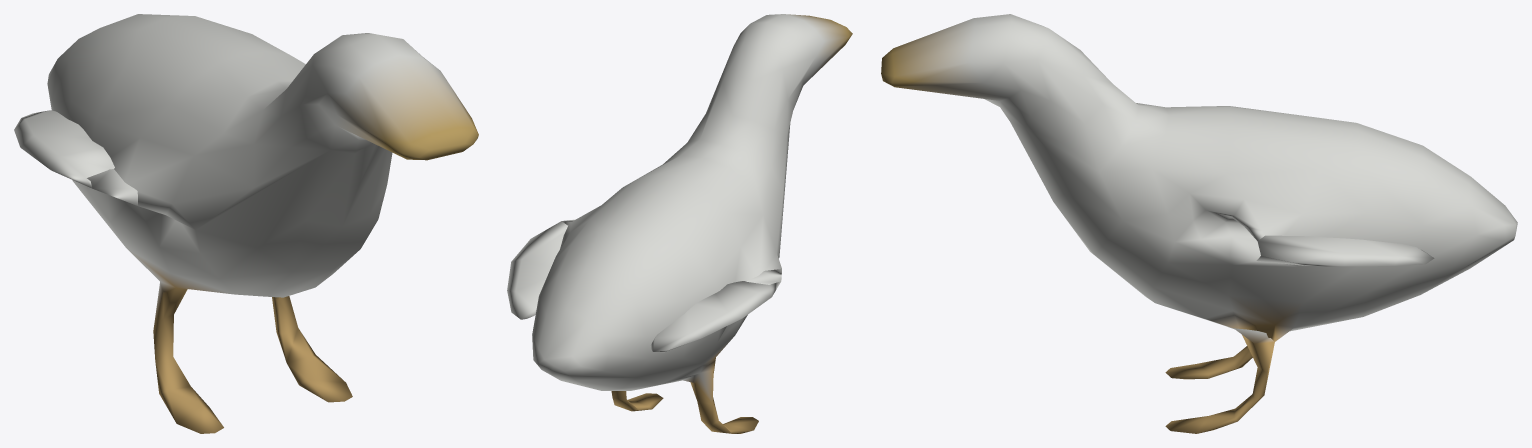
The model's file is duck-0.glb.
The picture shows the model from 3 angles, left to right: view 1: azimuth 30°, elevation 25°; view 2: azimuth 150°, elevation 25°; view 3: azimuth 270°, elevation 25°; orthographic projection. The views are drawn at different scales.
Parts seen in each view (by area): view 1: duck; view 2: duck; view 3: duck.
Part boxes in pixels (box(x1,y1,x2,y2)): duck: box(14, 14, 478, 433); duck: box(507, 14, 852, 433); duck: box(881, 14, 1517, 433).
Bounding box in the file's own units: 0.2925 × 0.3937 × 0.5949.
